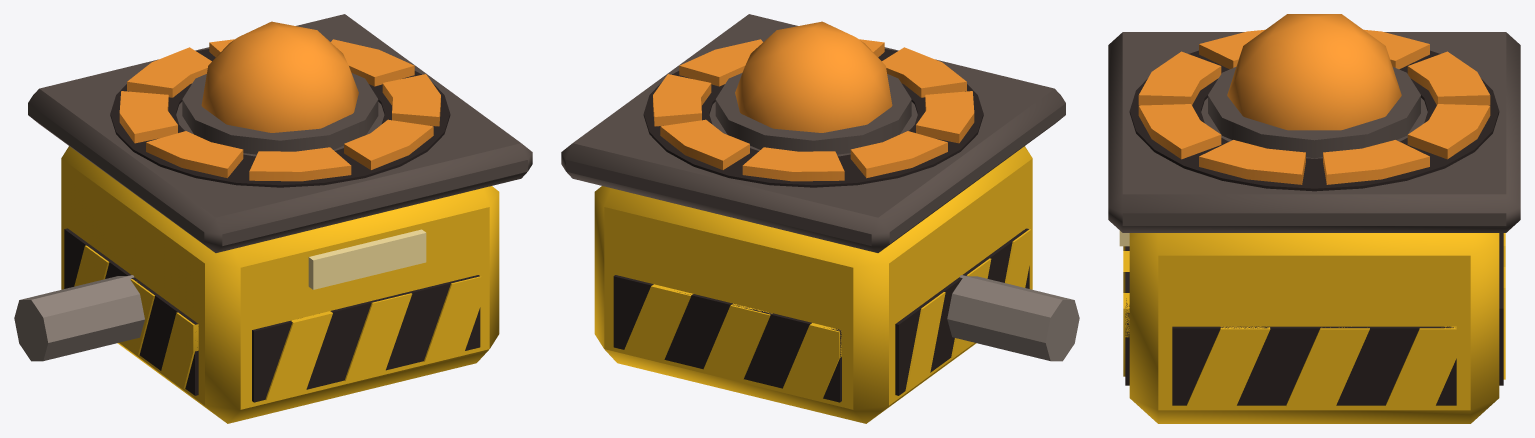
Rendered from trap_relay__upper.glb.
The picture shows the model from 3 angles, left to right: view 1: azimuth 30°, elevation 25°; view 2: azimuth 150°, elevation 25°; view 3: azimuth 270°, elevation 25°; orthographic projection. The views are drawn at different scales.
Visible parts, largest first — view 1: Body, Lamp, Tick_05, Tick_06, Tick_04, Tick_08, Tick_07, Tick_03, Tick_02; view 2: Body, Lamp, Tick_08, Tick_07, Tick_01, Tick_05, Tick_06, Tick_02, Tick_03; view 3: Body, Lamp, Tick_02, Tick_03, Tick_01, Tick_04, Tick_05, Tick_08, Tick_06, Tick_07.
Boxes of the visible parts, x1=… form: Body: x1=14, y1=14, x2=532, y2=423; Lamp: x1=201, y1=21, x2=358, y2=132; Tick_05: x1=249, y1=147, x2=351, y2=181; Tick_06: x1=146, y1=131, x2=243, y2=178; Tick_04: x1=344, y1=119, x2=433, y2=169; Tick_08: x1=127, y1=47, x2=211, y2=97; Tick_07: x1=119, y1=91, x2=177, y2=143; Tick_03: x1=382, y1=74, x2=440, y2=126; Tick_02: x1=331, y1=39, x2=414, y2=86; Body: x1=561, y1=14, x2=1079, y2=423; Lamp: x1=735, y1=21, x2=892, y2=132; Tick_08: x1=742, y1=147, x2=844, y2=181; Tick_07: x1=850, y1=131, x2=947, y2=178; Tick_01: x1=660, y1=119, x2=749, y2=169; Tick_05: x1=882, y1=47, x2=966, y2=97; Tick_06: x1=916, y1=91, x2=974, y2=143; Tick_02: x1=653, y1=74, x2=711, y2=126; Tick_03: x1=679, y1=39, x2=762, y2=86; Body: x1=1108, y1=32, x2=1520, y2=423; Lamp: x1=1227, y1=14, x2=1401, y2=130; Tick_02: x1=1323, y1=140, x2=1429, y2=184; Tick_03: x1=1199, y1=140, x2=1305, y2=184; Tick_01: x1=1407, y1=104, x2=1490, y2=159; Tick_04: x1=1138, y1=104, x2=1221, y2=159; Tick_05: x1=1138, y1=51, x2=1221, y2=105; Tick_08: x1=1407, y1=51, x2=1490, y2=105; Tick_06: x1=1199, y1=29, x2=1264, y2=69; Tick_07: x1=1364, y1=29, x2=1429, y2=69.
Bounding box in the file's own units: 0.365 × 0.264 × 0.29.
